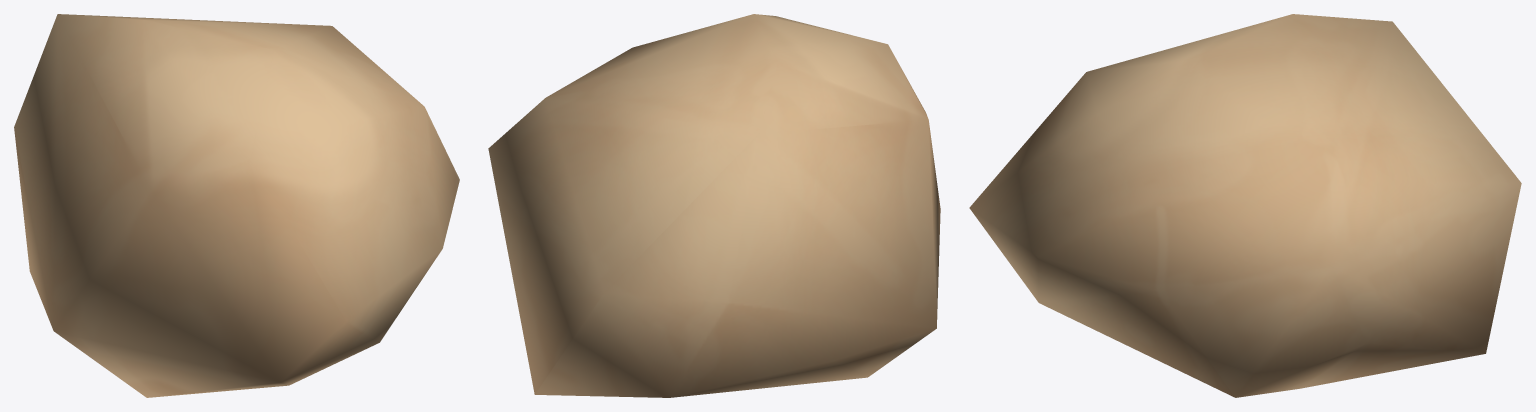
File: Rock_01.fbx
3 views of the same model, side by side, from view 1: azimuth 30°, elevation 25°; view 2: azimuth 150°, elevation 25°; view 3: azimuth 270°, elevation 25° (orthographic). The views are drawn at different scales.
Parts seen in each view (by area): view 1: Rock_01; view 2: Rock_01; view 3: Rock_01.
Part boxes in pixels (box(x1,y1,x2,y2)): Rock_01: box(14, 14, 459, 397); Rock_01: box(488, 14, 940, 397); Rock_01: box(969, 14, 1521, 397).
Size of the model in its own units: 273 by 225 by 352.
1 material, 1 textured.
